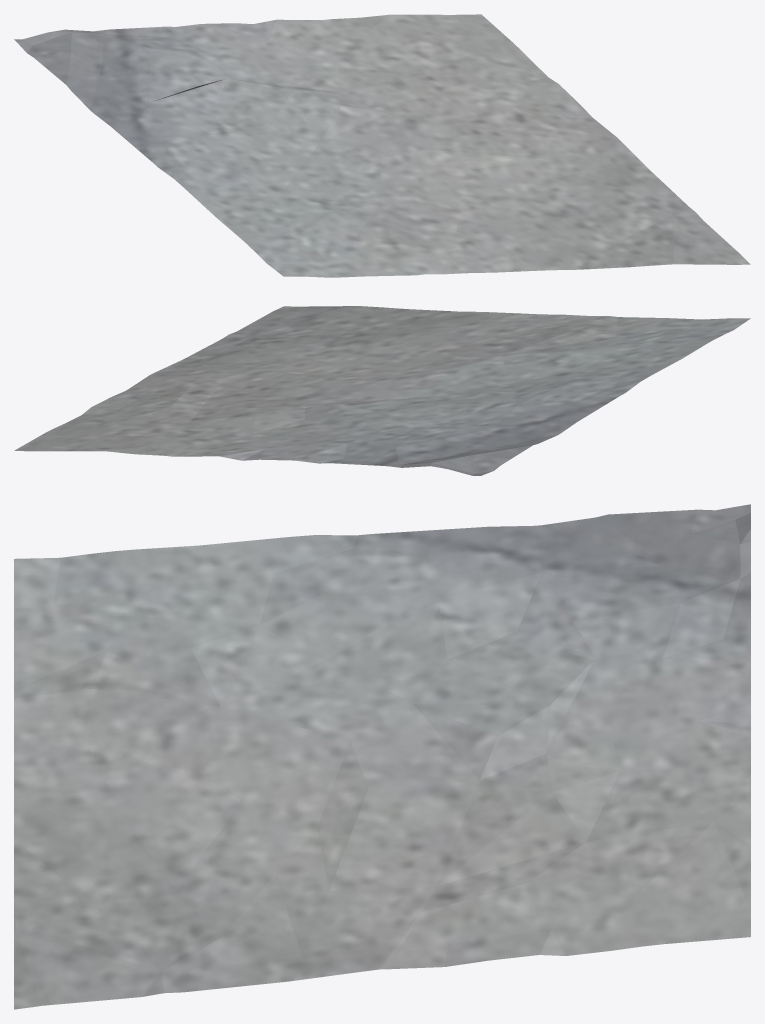
3 views of the same model, one above another, from view 1: azimuth 30°, elevation 25°; view 2: azimuth 150°, elevation 25°; view 3: azimuth 270°, elevation 25° (orthographic). The views are drawn at different scales.
Size of the model in its own units: 1.67 by 0.486 by 1.67.
Materials: 3 (3 with a texture image).
